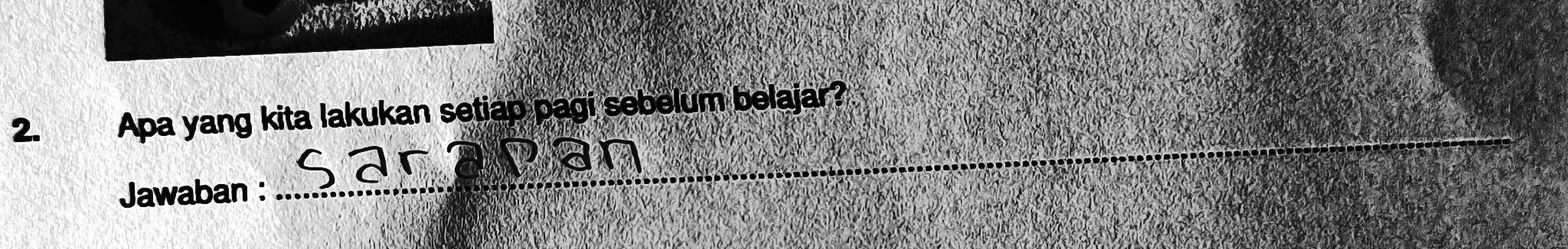jawaban: (294, 130, 647, 193)
